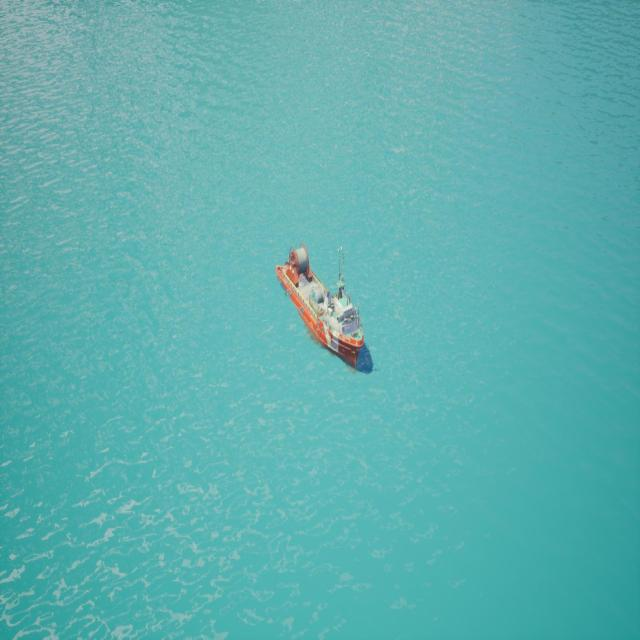tug boat: (280, 225, 380, 396)
